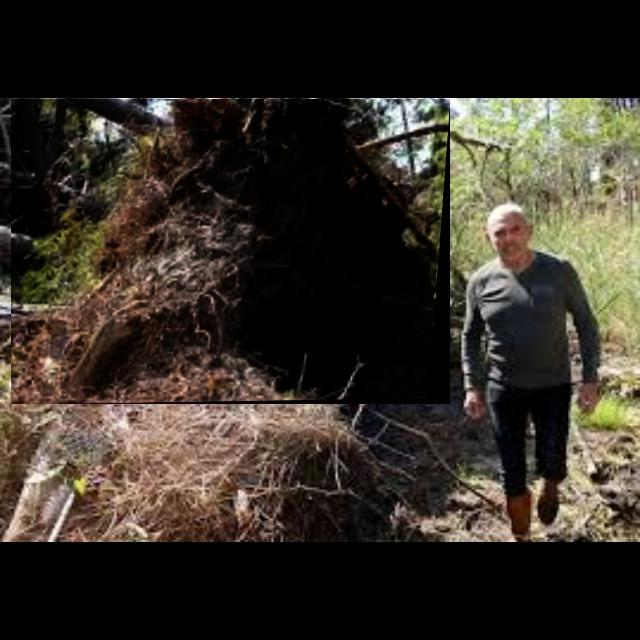fallen_tree: (11, 99, 451, 405)
